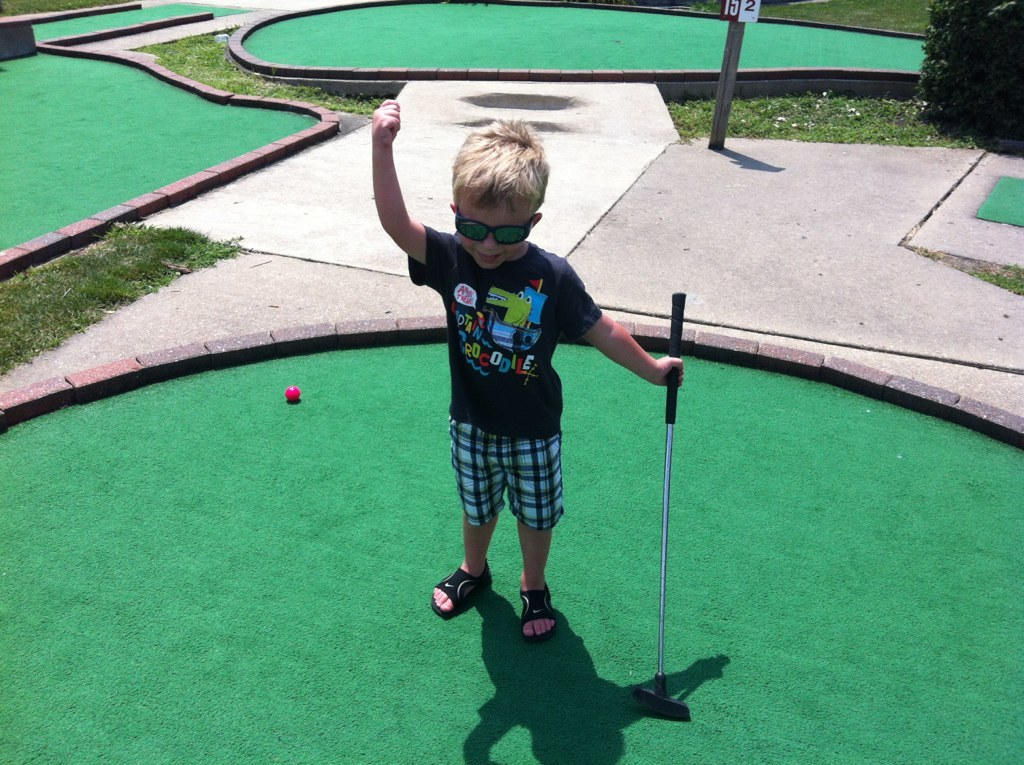Person: (371, 98, 684, 643)
